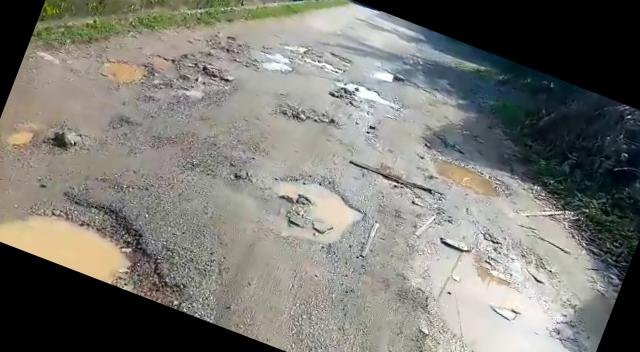pothole: (0, 162, 212, 312), (371, 238, 610, 352), (258, 164, 374, 260), (128, 35, 238, 112), (344, 156, 446, 208), (425, 148, 514, 206), (95, 45, 158, 93), (283, 40, 354, 80), (335, 75, 404, 113), (276, 96, 341, 134), (245, 44, 297, 80)
